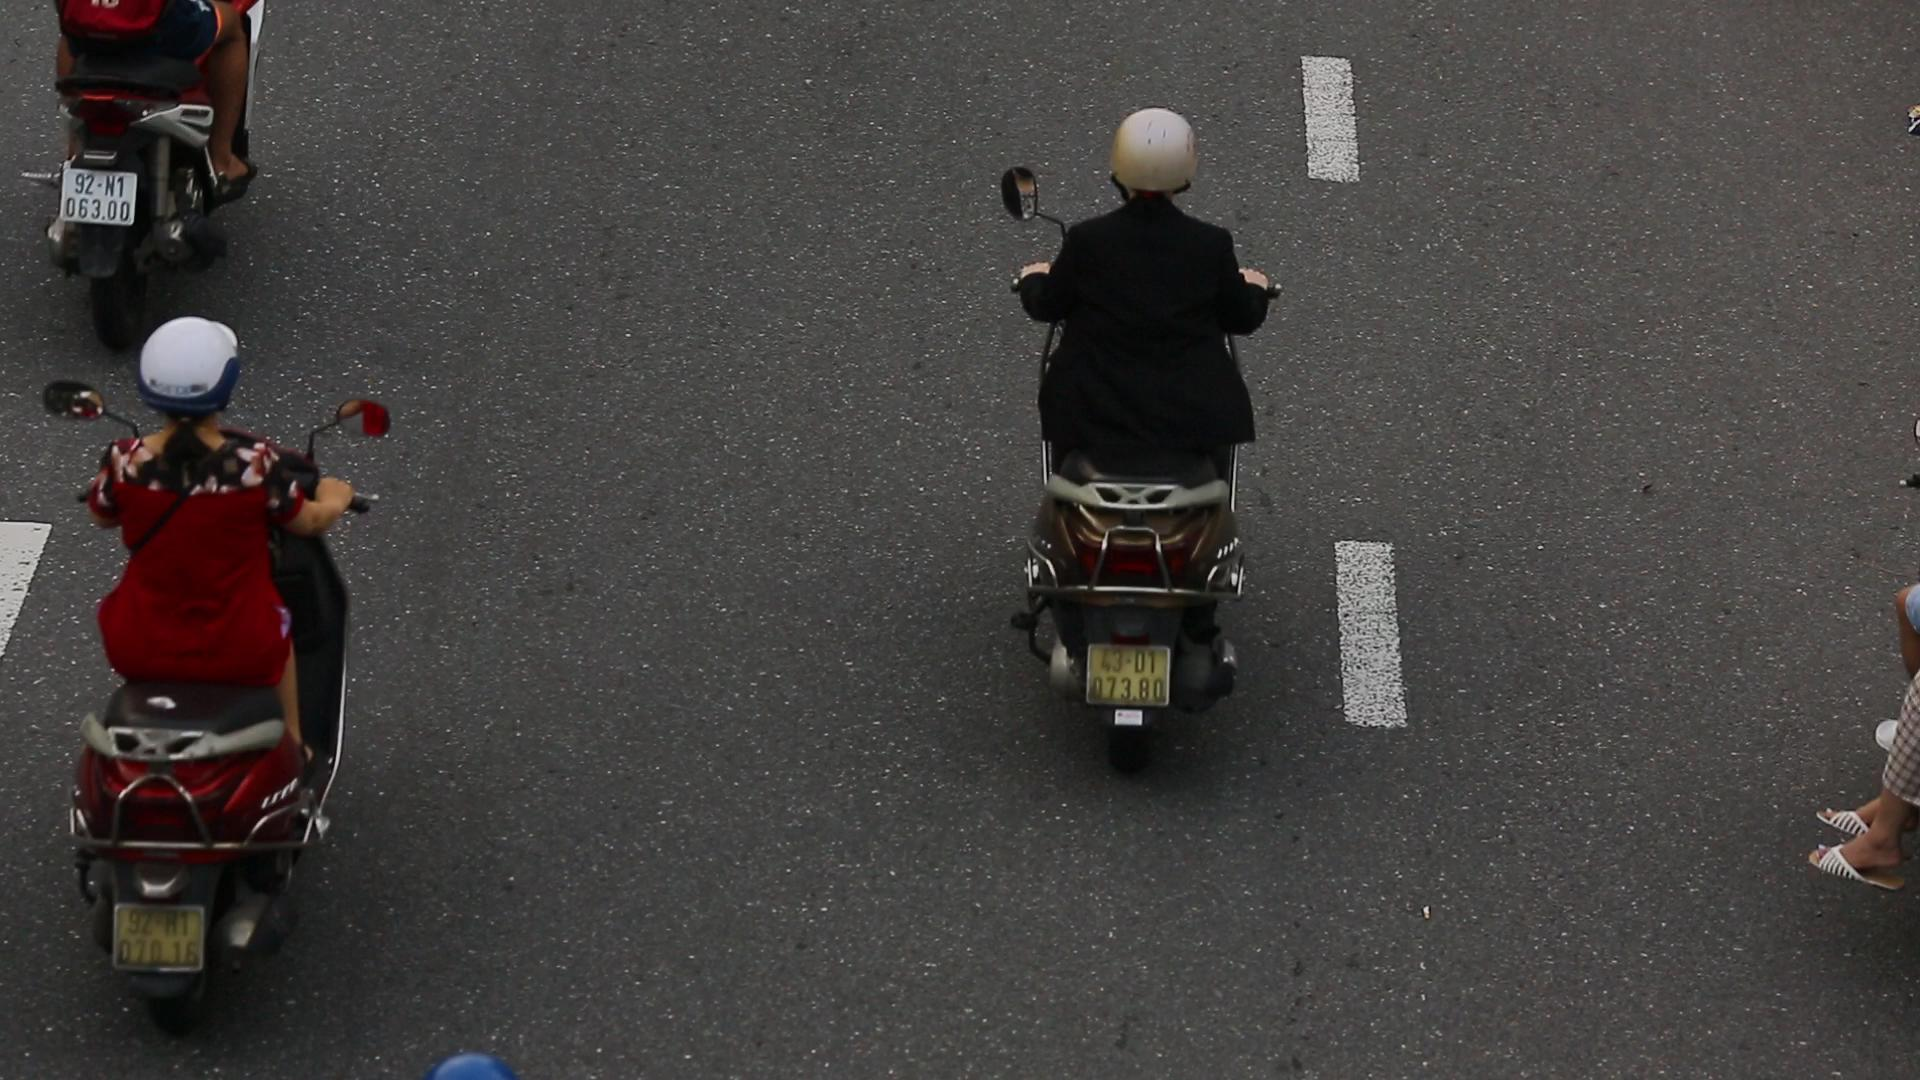motobike: (992, 105, 1304, 769)
